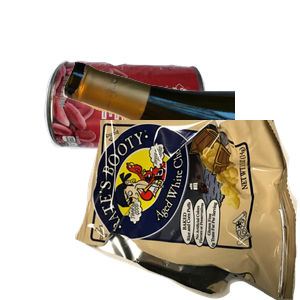glass: (60, 59, 300, 231)
metal: (41, 58, 240, 207)
plastic: (92, 176, 257, 300)
trash: (75, 120, 300, 300)
